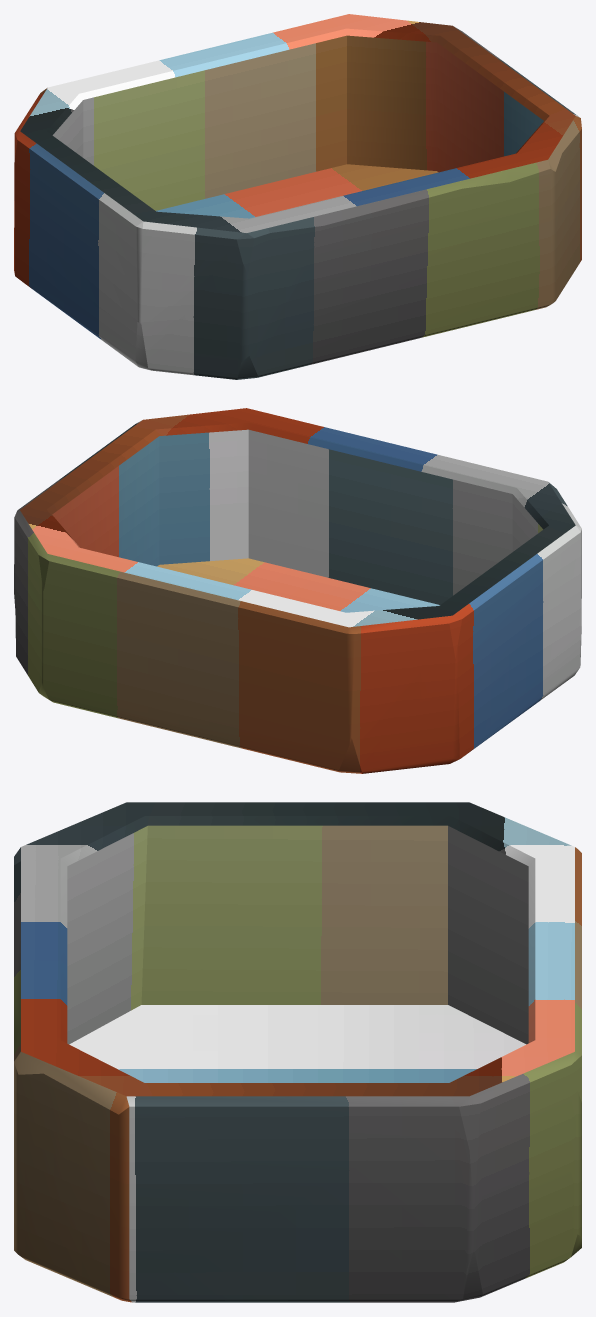
File: Prop_Lockbox.glb
3 views of the same model, one above another, from view 1: azimuth 30°, elevation 25°; view 2: azimuth 150°, elevation 25°; view 3: azimuth 270°, elevation 25° (orthographic). The views are drawn at different scales.
Visible parts, largest first — view 1: Prop_Lockbox; view 2: Prop_Lockbox; view 3: Prop_Lockbox.
Boxes of the visible parts, x1,y1,x2,y2 form: Prop_Lockbox: [14, 14, 581, 379]; Prop_Lockbox: [14, 408, 581, 773]; Prop_Lockbox: [14, 802, 581, 1302].
Bounding box in the file's own units: 0.9426 × 0.2988 × 0.7486.
1 material, 1 textured.
